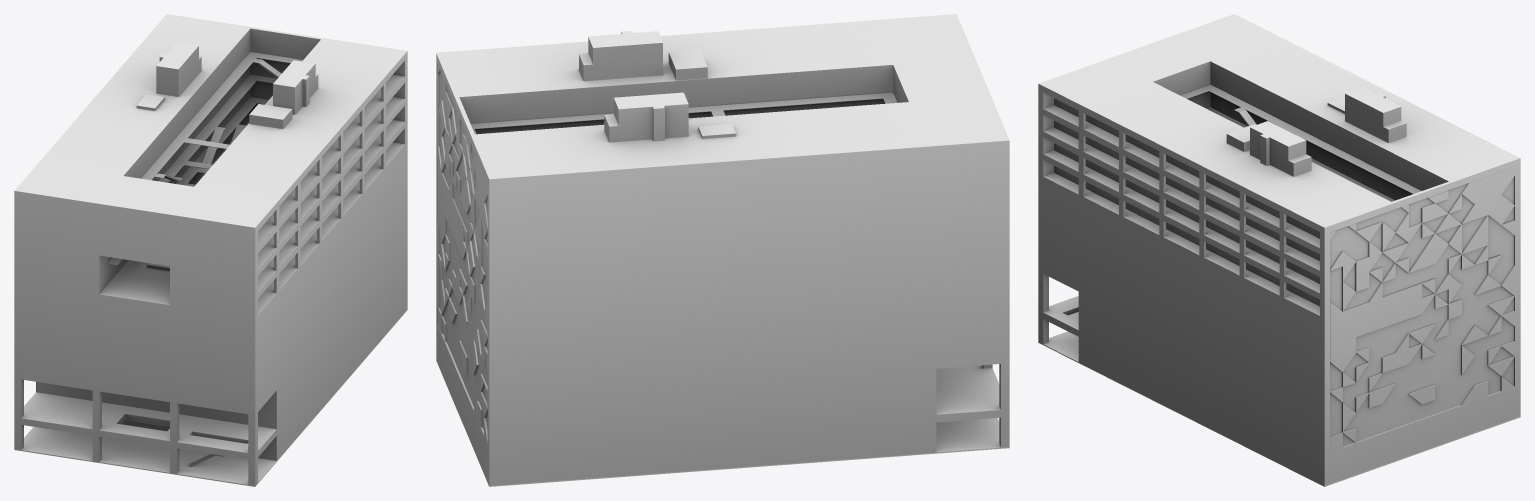
The model's file is compressed-building.glb.
3 views of the same model, side by side, from view 1: azimuth 30°, elevation 25°; view 2: azimuth 150°, elevation 25°; view 3: azimuth 270°, elevation 25° (orthographic). The views are drawn at different scales.
Visible parts, largest first — view 1: StrijpS_Gebouw_02; view 2: StrijpS_Gebouw_02; view 3: StrijpS_Gebouw_02.
Boxes of the visible parts, x1,y1,x2,y2 form: StrijpS_Gebouw_02: [14, 14, 407, 486]; StrijpS_Gebouw_02: [436, 14, 1009, 486]; StrijpS_Gebouw_02: [1038, 14, 1520, 486].
Size of the model in its own units: 72.84 by 45.53 by 69.44.
1 material, 1 textured.
